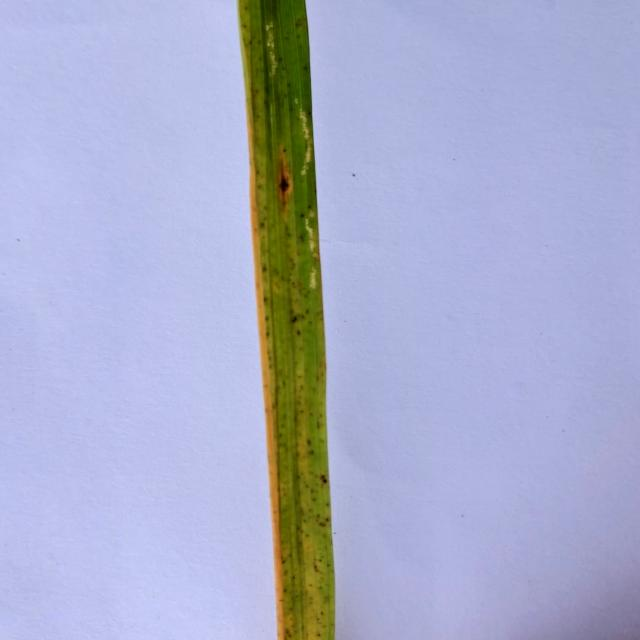tungro: (240, 52, 291, 640)
